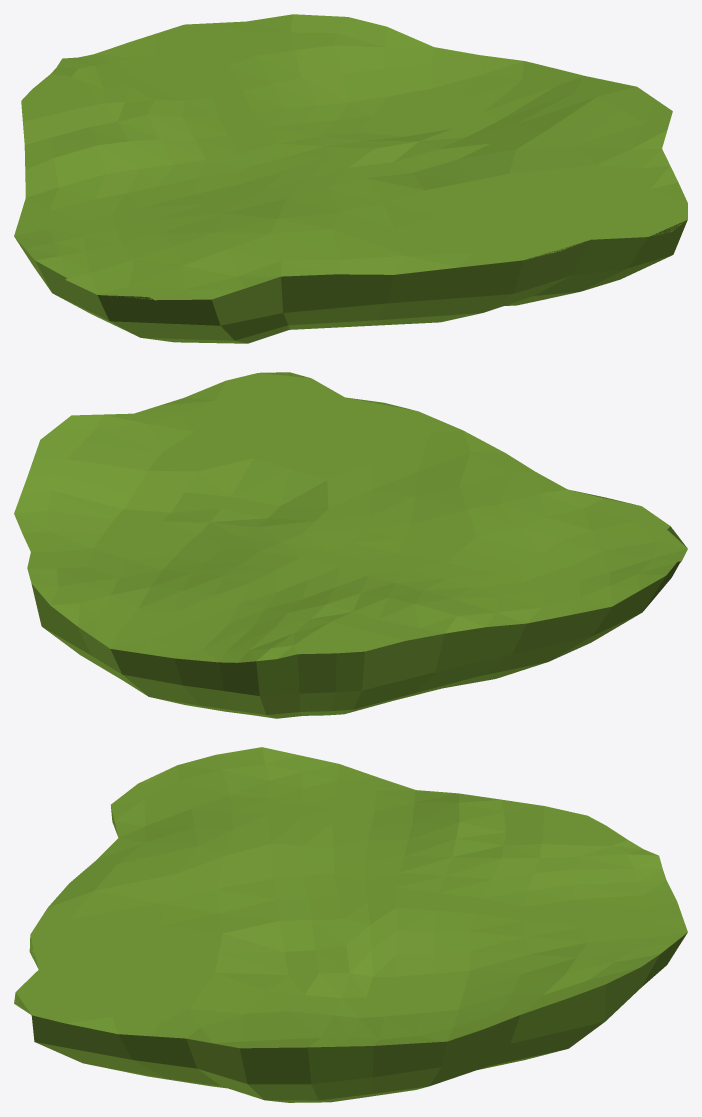
File: TerrainTest.fbx
3 views of the same model, one above another, from view 1: azimuth 30°, elevation 25°; view 2: azimuth 150°, elevation 25°; view 3: azimuth 270°, elevation 25° (orthographic). The views are drawn at different scales.
Parts seen in each view (by area): view 1: mod_terrain01.001, mod_terrain01.002; view 2: mod_terrain01.001, mod_terrain01.002; view 3: mod_terrain01.001, mod_terrain01.002.
Boxes of the visible parts, x1=… form: mod_terrain01.001: x1=43, y1=32, x2=657, y2=289; mod_terrain01.002: x1=14, y1=14, x2=687, y2=343; mod_terrain01.001: x1=47, y1=389, x2=655, y2=651; mod_terrain01.002: x1=14, y1=372, x2=687, y2=718; mod_terrain01.001: x1=56, y1=764, x2=651, y2=1041; mod_terrain01.002: x1=14, y1=747, x2=687, y2=1102.
Size of the model in its own units: 2252 by 384 by 2098.
